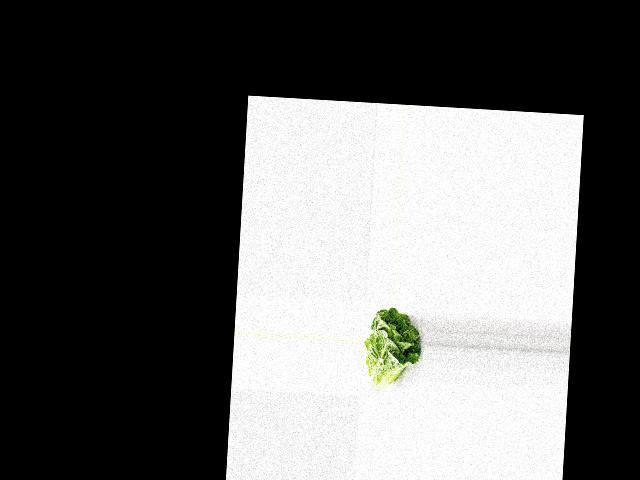lettuce: (360, 307, 424, 391)
